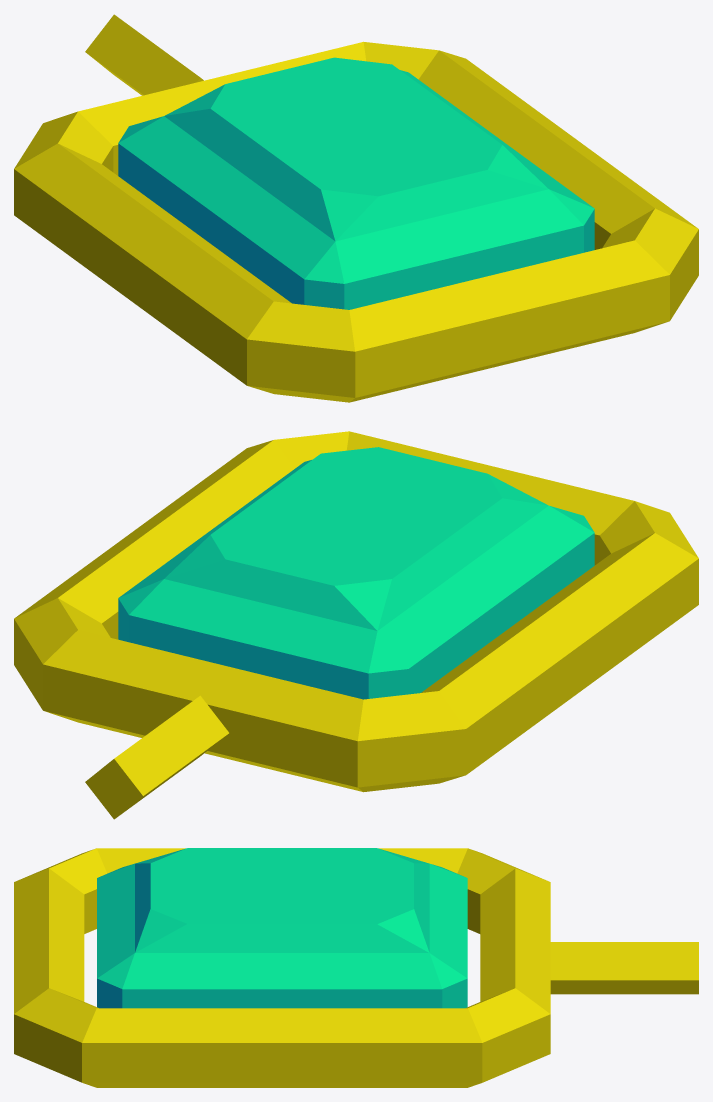
Rendered from pendant0101.fbx.
3 renders of one model, top to bottom at view 1: azimuth 30°, elevation 25°; view 2: azimuth 150°, elevation 25°; view 3: azimuth 270°, elevation 25°, orthographic. The views are drawn at different scales.
Visible parts, largest first — view 1: Pendant_0101; view 2: Pendant_0101; view 3: Pendant_0101.
Part boxes in pixels (<box>): Pendant_0101: <box>14,14,698,402</box>; Pendant_0101: <box>14,431,698,819</box>; Pendant_0101: <box>14,848,698,1087</box>.
Size of the model in its own units: 5.11 by 1.78 by 7.8.
